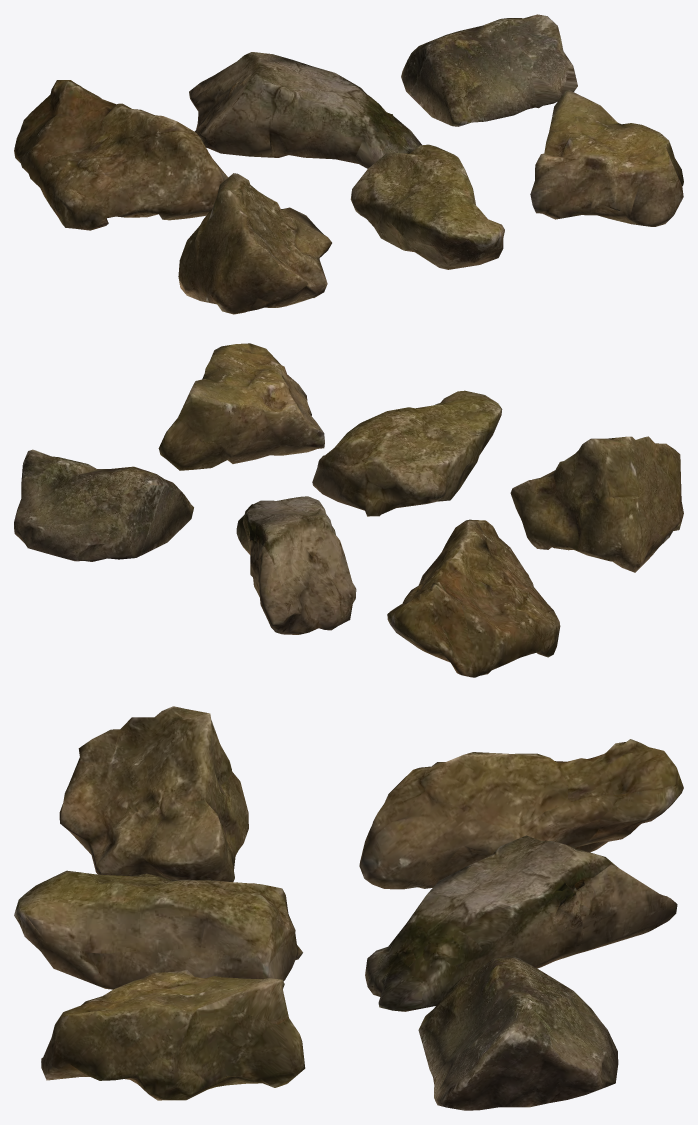
The model's file is rock_moss_set_01.glb.
The picture shows the model from 3 angles, top to bottom: view 1: azimuth 30°, elevation 25°; view 2: azimuth 150°, elevation 25°; view 3: azimuth 270°, elevation 25°; orthographic projection. The views are drawn at different scales.
Visible parts, largest first — view 1: rock_moss_set_01_rock01; view 2: rock_moss_set_01_rock01; view 3: rock_moss_set_01_rock01.
Part boxes in pixels (bbox=[...]): rock_moss_set_01_rock01: bbox=[14, 14, 683, 314]; rock_moss_set_01_rock01: bbox=[14, 343, 683, 677]; rock_moss_set_01_rock01: bbox=[14, 706, 683, 1110].
Size of the model in its own units: 8 by 1.76 by 6.94.
1 material, 1 textured.
